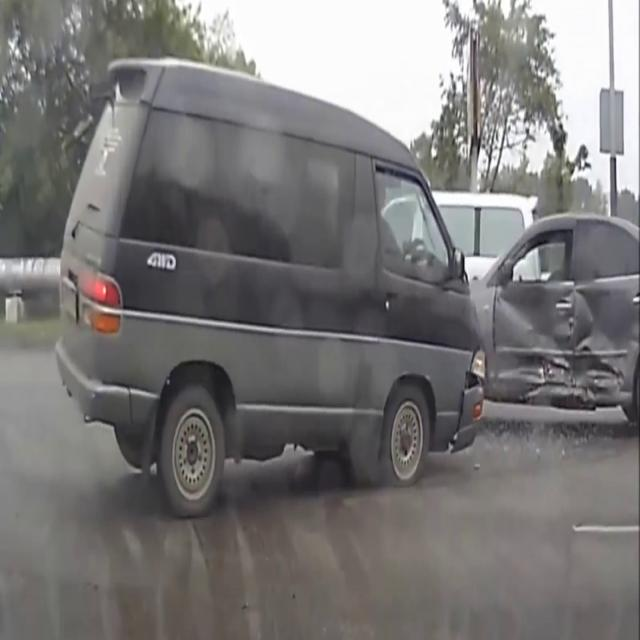accident: (299, 83, 631, 519)
